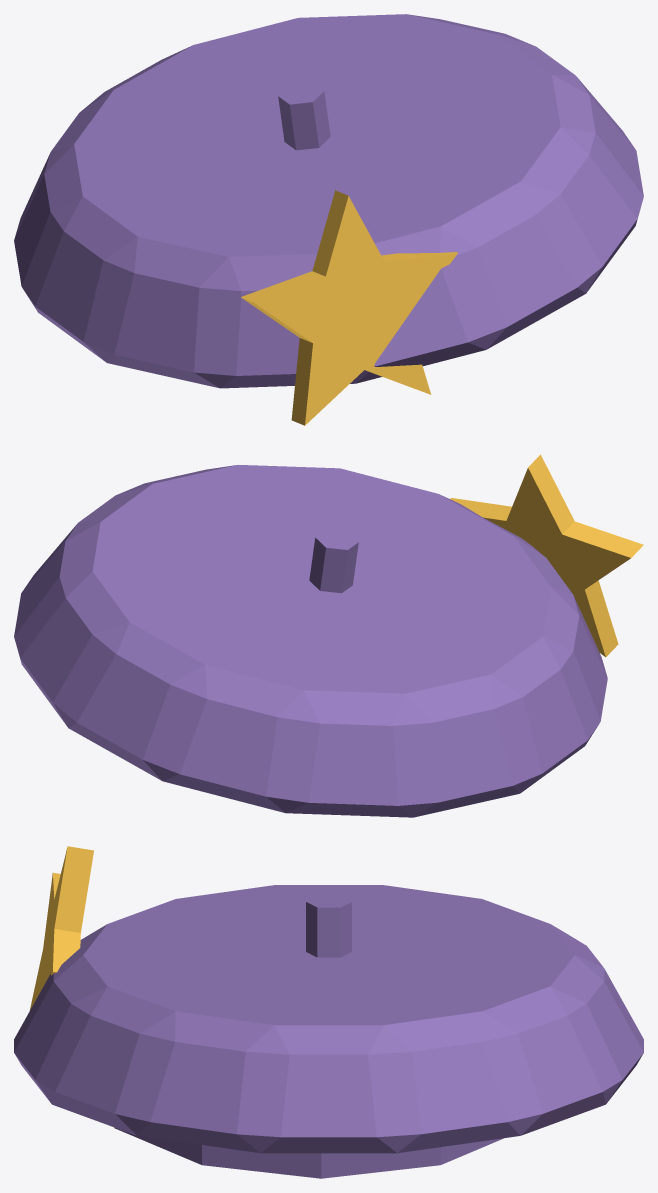
Rendered from CleanACat_NPC_StarBeret.fbx.
The picture shows the model from 3 angles, top to bottom: view 1: azimuth 30°, elevation 25°; view 2: azimuth 150°, elevation 25°; view 3: azimuth 270°, elevation 25°; orthographic projection. The views are drawn at different scales.
Parts seen in each view (by area): view 1: CleanACat_NPC_StarBeret; view 2: CleanACat_NPC_StarBeret; view 3: CleanACat_NPC_StarBeret.
Part boxes in pixels (x1,y1,x2,y2): CleanACat_NPC_StarBeret: (14, 14, 643, 425); CleanACat_NPC_StarBeret: (14, 454, 643, 817); CleanACat_NPC_StarBeret: (14, 846, 643, 1178).
Size of the model in its own units: 1.61 by 0.5822 by 1.64.
Materials: 1 (1 with a texture image).
